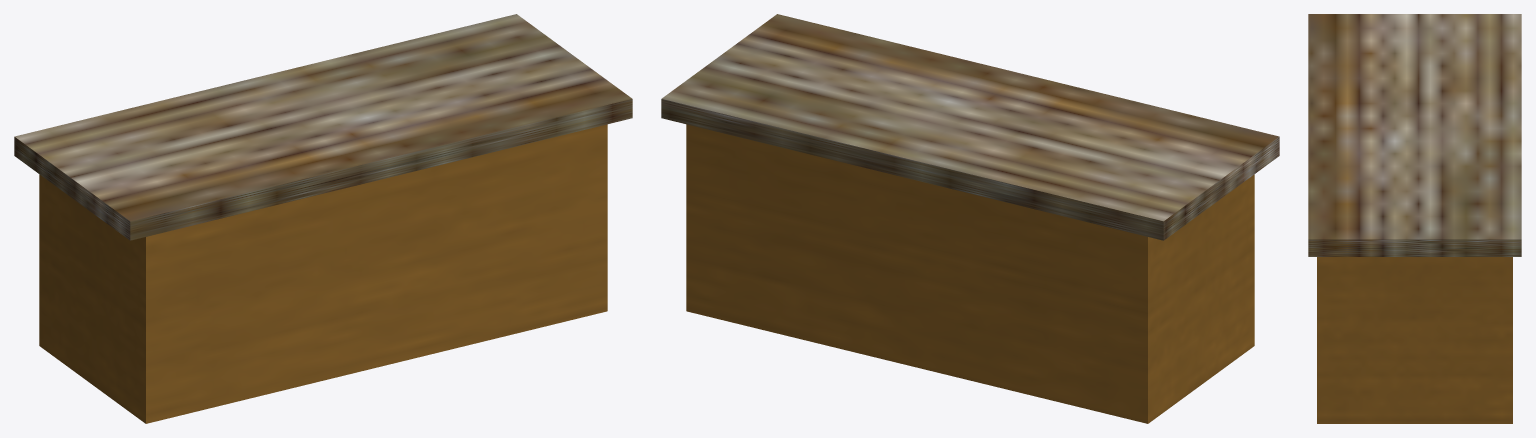
File: TestObject.obj
3 views of the same model, side by side, from view 1: azimuth 30°, elevation 25°; view 2: azimuth 150°, elevation 25°; view 3: azimuth 270°, elevation 25° (orthographic). The views are drawn at different scales.
Visible parts, largest first — view 1: Cube, Cube.001; view 2: Cube, Cube.001; view 3: Cube.001, Cube.
Boxes of the visible parts, box(x1,y1,x2,y2) form: Cube: box(39, 124, 607, 423); Cube.001: box(14, 14, 632, 240); Cube: box(686, 124, 1254, 423); Cube.001: box(661, 14, 1279, 240); Cube.001: box(1308, 14, 1521, 256); Cube: box(1317, 257, 1512, 423).
Size of the model in its own units: 5.45 by 2.19 by 2.18.
